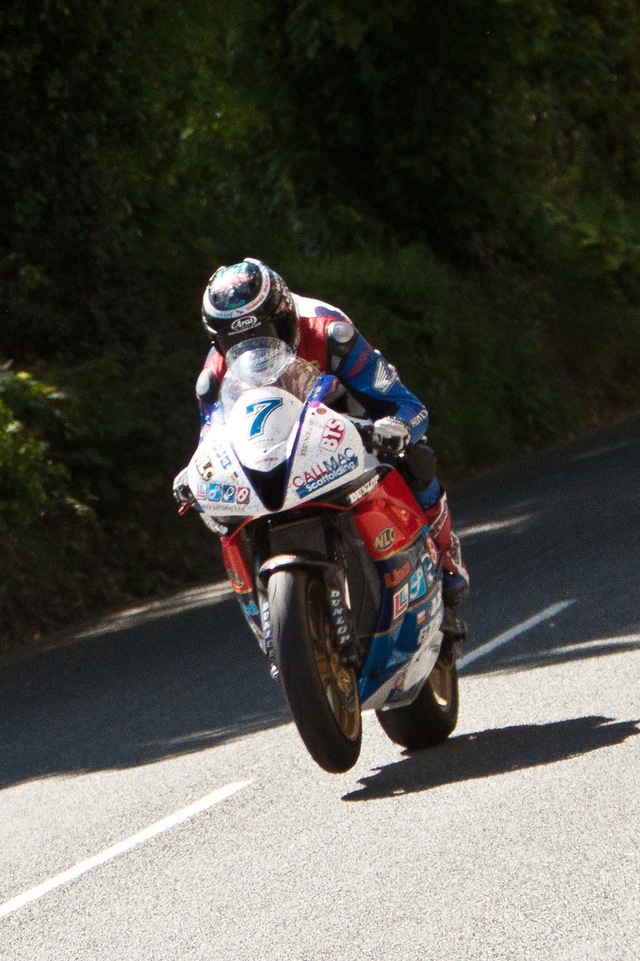helmet: (197, 262, 307, 359)
